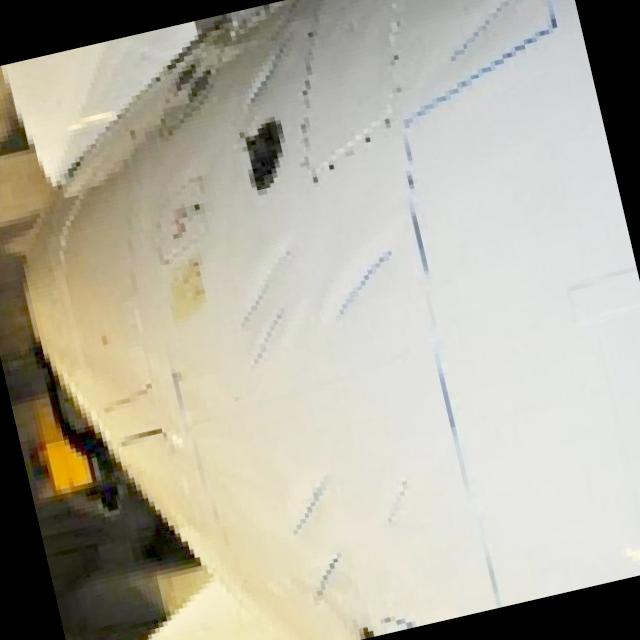dent: (308, 238, 410, 330), (216, 233, 314, 326), (220, 28, 316, 118), (435, 0, 549, 69), (227, 308, 303, 377), (276, 472, 352, 536), (299, 554, 363, 611)
